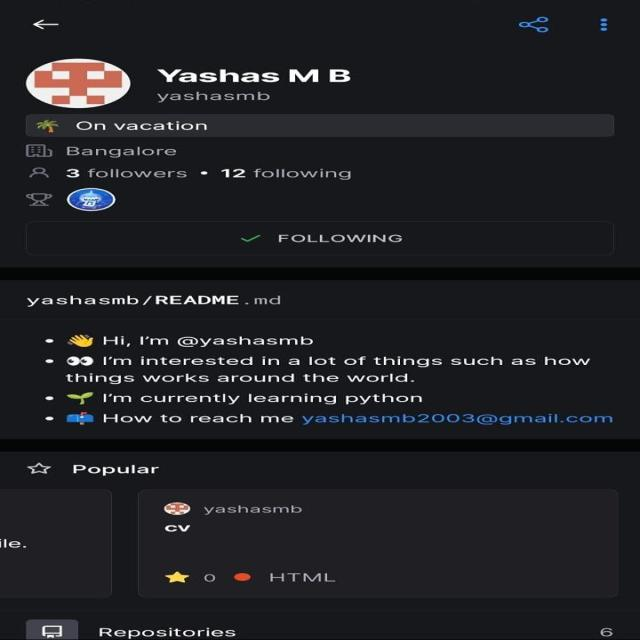Drawer: (26, 618, 77, 640), (516, 16, 556, 35), (165, 571, 191, 584), (28, 462, 52, 476), (32, 19, 60, 30), (596, 15, 612, 33), (30, 166, 50, 179)
EditText: (23, 57, 132, 108), (66, 188, 117, 211), (64, 410, 96, 426), (26, 142, 53, 159), (67, 333, 96, 348), (66, 391, 95, 405), (26, 193, 54, 207), (37, 120, 61, 134), (67, 356, 96, 366), (239, 233, 262, 245), (234, 572, 252, 582)
Icon: (301, 415, 614, 425)
Modal: (101, 356, 592, 366), (102, 392, 426, 405), (156, 67, 354, 85), (65, 373, 416, 383), (23, 295, 282, 307), (102, 334, 316, 348), (103, 413, 294, 424), (76, 119, 210, 133), (99, 626, 238, 639), (66, 145, 176, 159), (86, 166, 192, 180), (156, 92, 274, 104), (254, 168, 354, 181), (71, 464, 161, 476), (222, 168, 246, 178), (600, 626, 615, 638), (67, 168, 81, 178), (42, 337, 57, 345), (43, 359, 57, 365), (43, 395, 56, 401), (198, 170, 208, 176), (45, 415, 55, 421)
